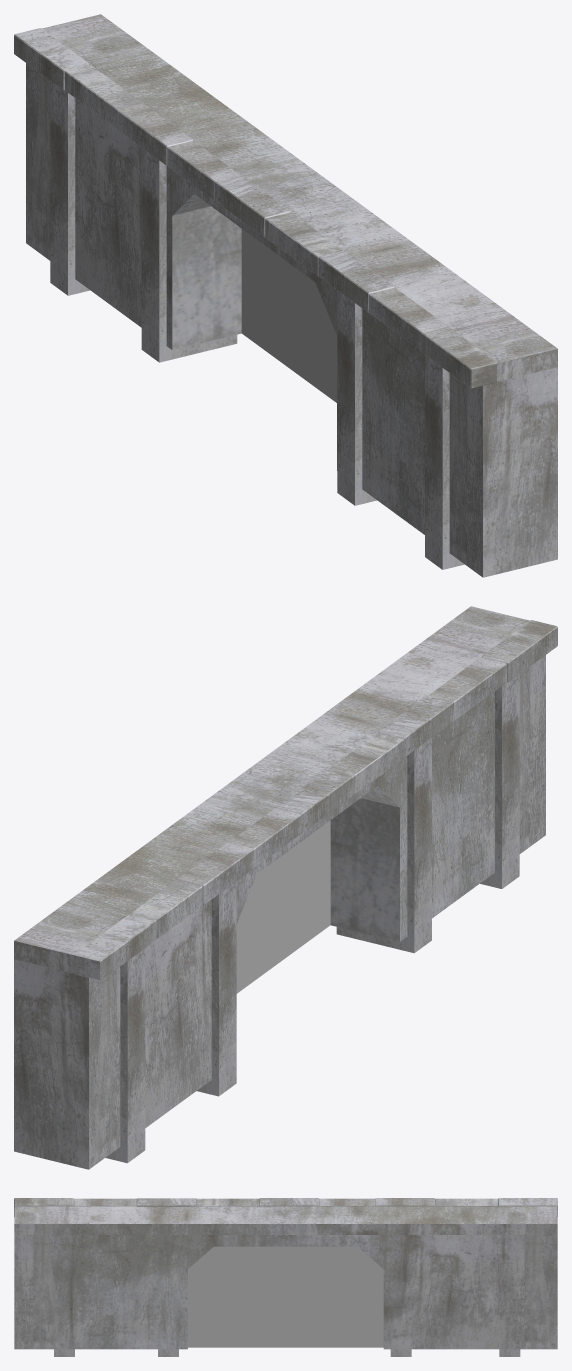
The model's file is site_Canal02h.fbx.
3 views of the same model, one above another, from view 1: azimuth 30°, elevation 25°; view 2: azimuth 150°, elevation 25°; view 3: azimuth 270°, elevation 25° (orthographic). The views are drawn at different scales.
Visible parts, largest first — view 1: site_Canal02h; view 2: site_Canal02h; view 3: site_Canal02h.
Part boxes in pixels (left/top/right/bottom): site_Canal02h: left=14, top=14, right=557, bottom=577; site_Canal02h: left=14, top=606, right=557, bottom=1169; site_Canal02h: left=14, top=1198, right=557, bottom=1356.
Size of the model in its own units: 1.3 by 3.23 by 11.8.
